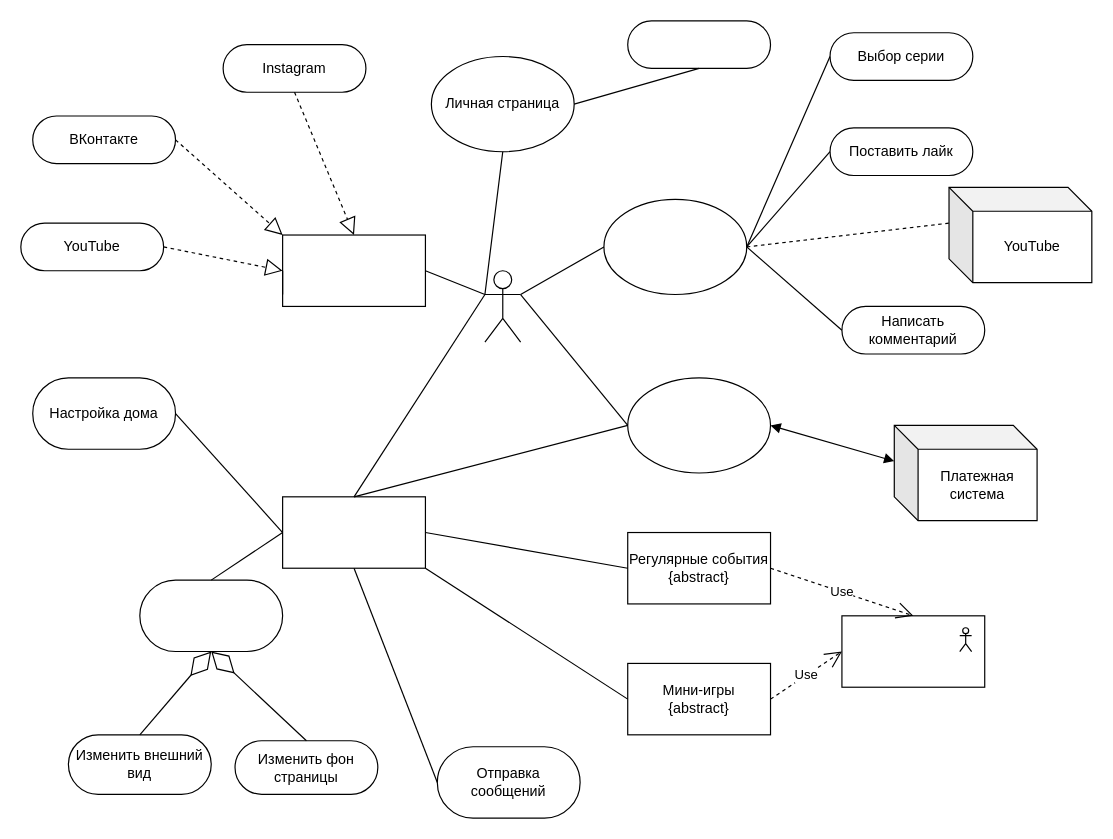
The diagram is 1113 pixels wide and 839 high, and some of its shapes have lost their labels. The shapes that lost their labels are listed below. From the top down, each one's centre as x and y in pixels, then its label:
(699,44): Редактировать
(675,246): Видеоплеер
(353,270): <<interface>> Социальные сети
(502,306): Actor
(699,425): Онлайн магазин
(353,532): Онлайн игра
(211,615): Настройка персонажа
(913,651): Admin
